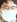with_mask: (1, 1, 17, 22)
